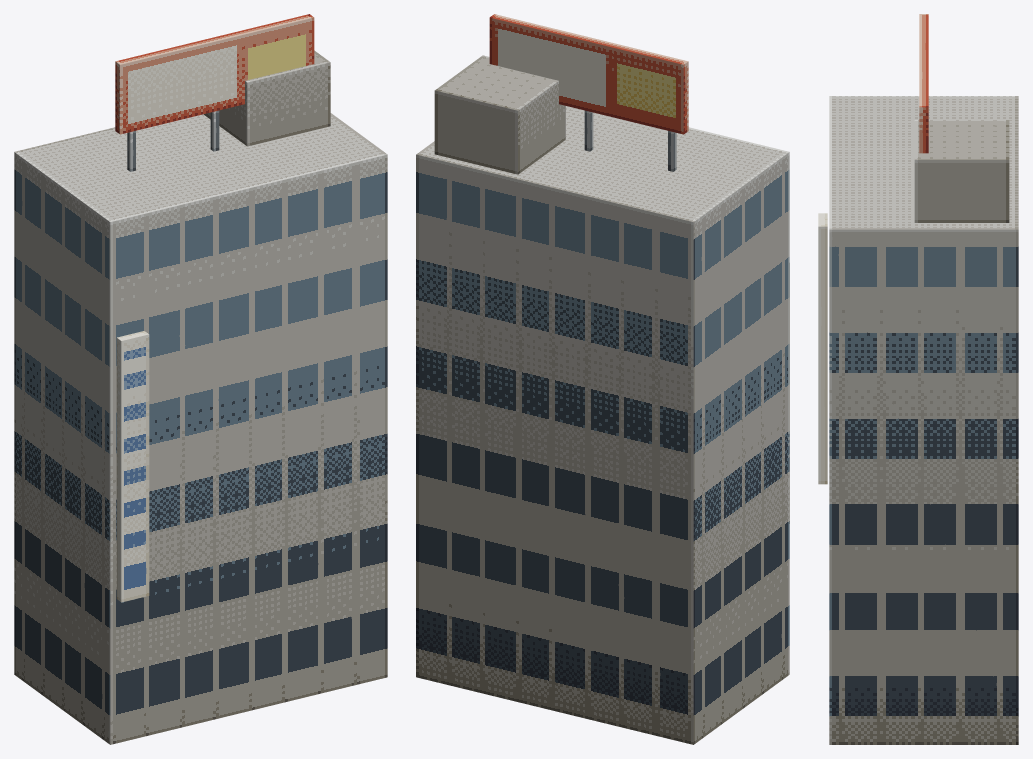
The model's file is sky_office.glb.
3 views of the same model, side by side, from view 1: azimuth 30°, elevation 25°; view 2: azimuth 150°, elevation 25°; view 3: azimuth 270°, elevation 25° (orthographic).
Parts seen in each view (by area): view 1: sky_office; view 2: sky_office; view 3: sky_office.
Boxes of the visible parts, box(x1,y1,x2,y2) form: sky_office: box(14, 14, 387, 744); sky_office: box(416, 14, 789, 744); sky_office: box(818, 14, 1018, 744).
Size of the model in its own units: 10 by 21.8 by 6.35.
Materials: 1 (1 with a texture image).
